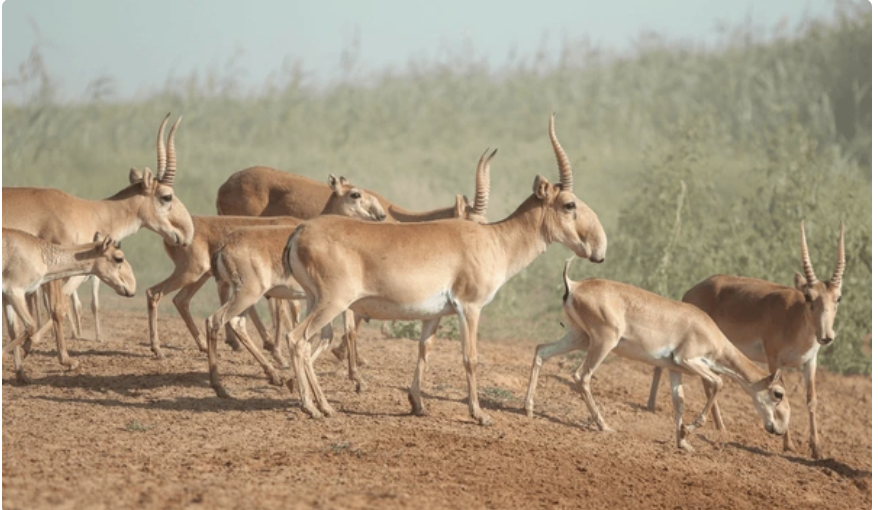saiga: (282, 157, 591, 425)
